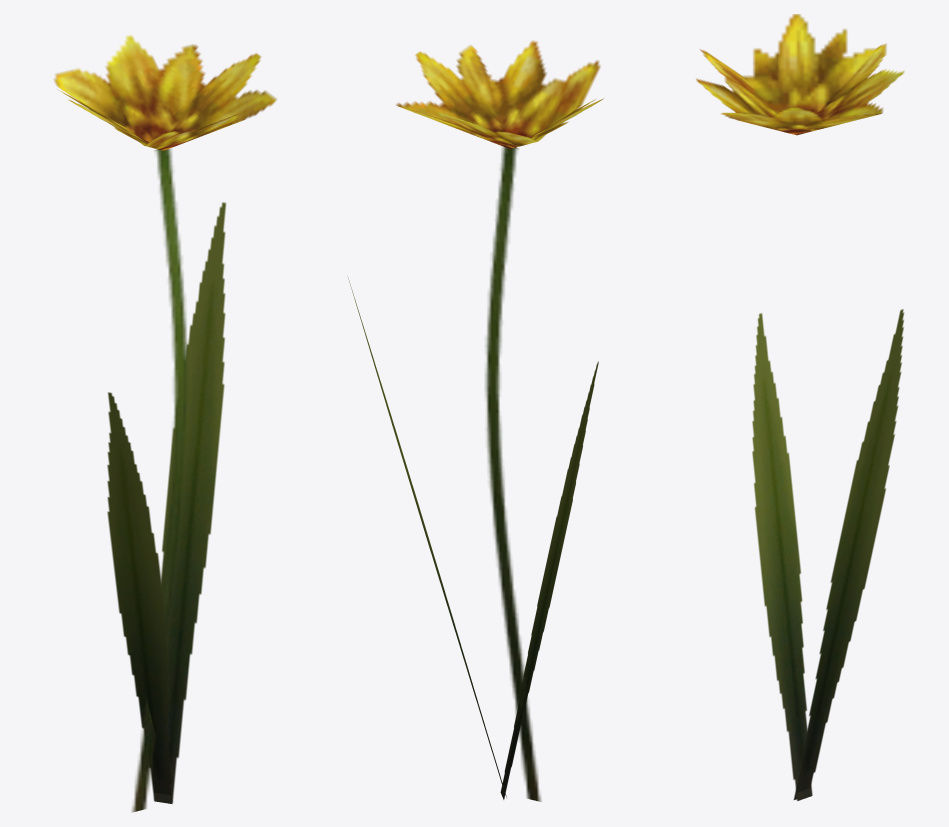
The model's file is flower1_51.glb.
The picture shows the model from 3 angles, left to right: view 1: azimuth 30°, elevation 25°; view 2: azimuth 150°, elevation 25°; view 3: azimuth 270°, elevation 25°; orthographic projection. The views are drawn at different scales.
Visible parts, largest first — view 1: flower1_51; view 2: flower1_51; view 3: flower1_51.
Part boxes in pixels (<box>): flower1_51: <box>54,35,276,812</box>; flower1_51: <box>347,40,603,801</box>; flower1_51: <box>696,14,904,800</box>.
Bounding box in the file's own units: 0.2703 × 0.8297 × 0.2539.
Materials: 1 (1 with a texture image).
